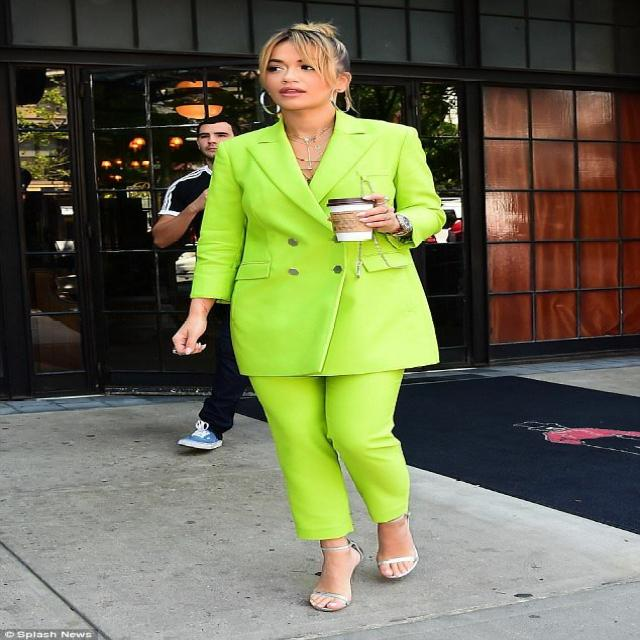male-dress: (184, 115, 469, 556)
